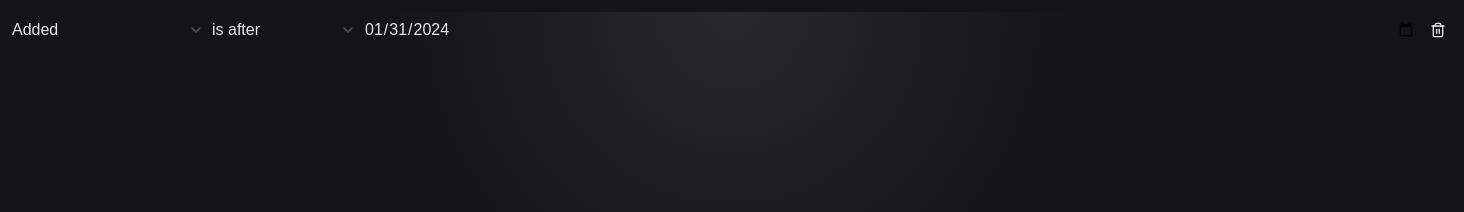
Scenario: FilterRuleRow › dates › starts over when the condition changes between a date and a span
Press the mouse on the dropdown named "Condition" at {"x": 284, "y": 30}, box [212, 12, 356, 48]
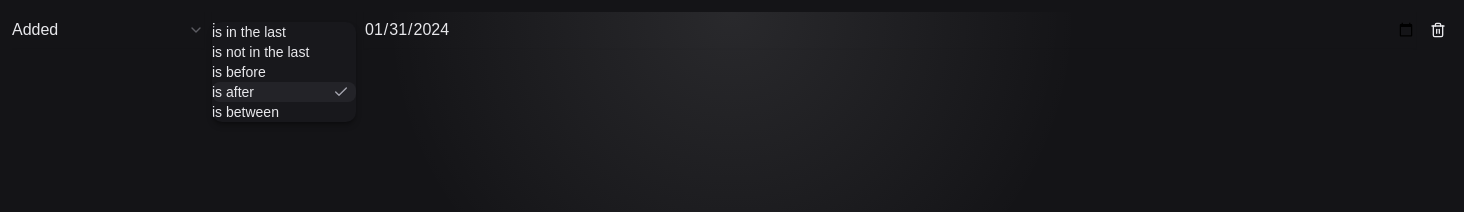
Click the option "is in the last" at {"x": 249, "y": 32}, box [212, 24, 286, 40]
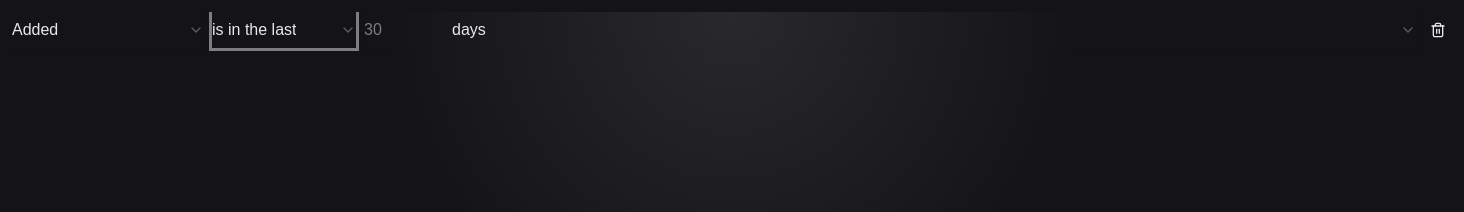
Expected: the number field named "Amount" is not empty, [364, 12, 444, 48]
